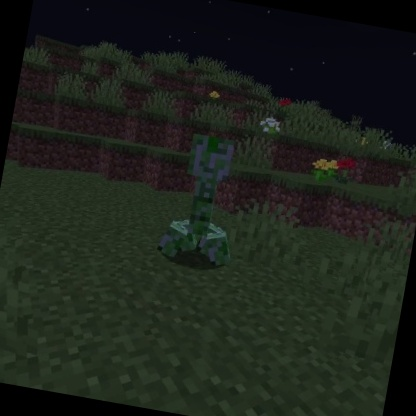creeper: (152, 126, 256, 276)
